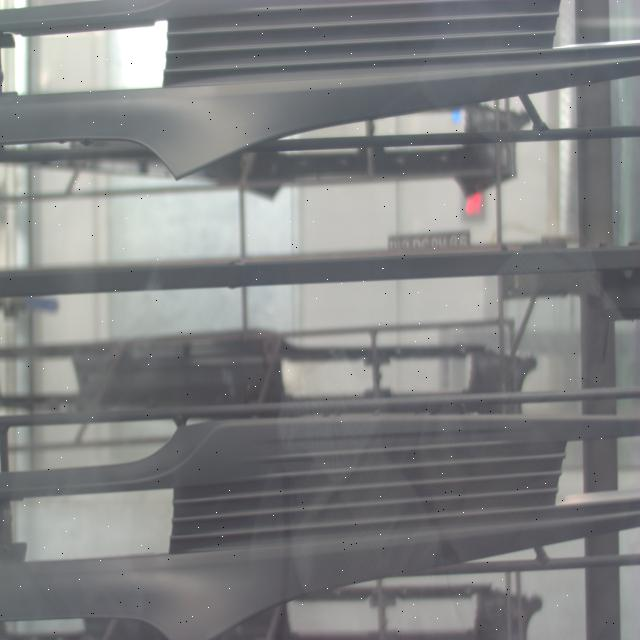Primered: (0, 417, 638, 640), (0, 0, 638, 183)
